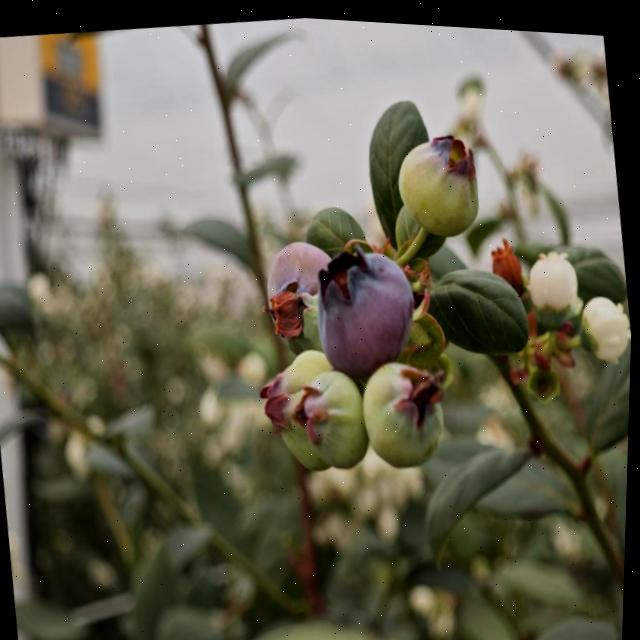Semi-RipeBlueBerry: (308, 233, 426, 378), (261, 233, 342, 334)
UnripeBlueBerry: (262, 338, 348, 475), (358, 347, 453, 470), (391, 121, 488, 239), (299, 362, 375, 471)
